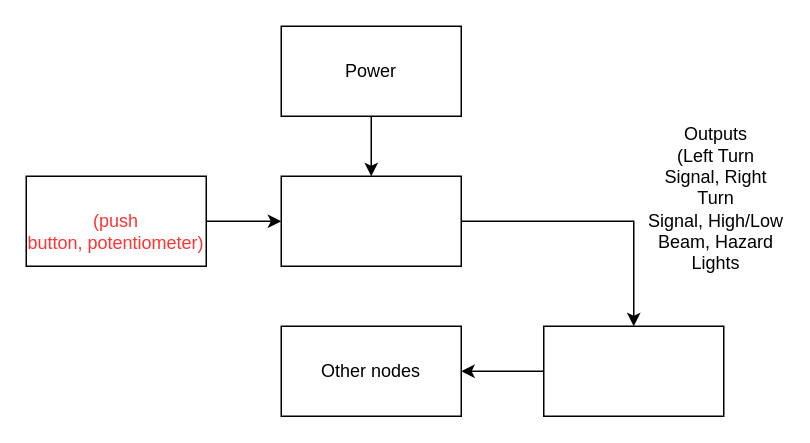
The diagram is 810 pixels wide and 443 high, and some of its shapes have lost their labels. Each missing label, with the centre of its shape:
"CAN device (module CAN MCP2515)" goes at pixel 633 370.
"MCU (STM32)" goes at pixel 370 220.
